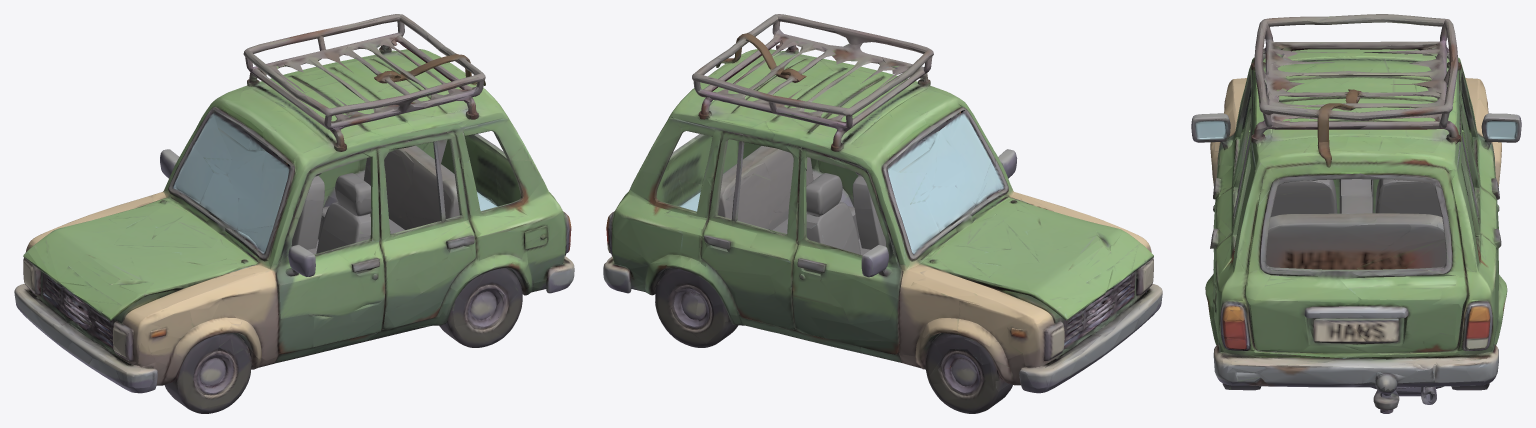
File: peugeot-optimized.glb
The picture shows the model from 3 angles, left to right: view 1: azimuth 30°, elevation 25°; view 2: azimuth 150°, elevation 25°; view 3: azimuth 270°, elevation 25°; orthographic projection. The views are drawn at different scales.
Parts seen in each view (by area): view 1: output_unwrapped; view 2: output_unwrapped; view 3: output_unwrapped.
Part boxes in pixels (x1=…): output_unwrapped: x1=14, y1=14, x2=574, y2=413; output_unwrapped: x1=603, y1=14, x2=1162, y2=413; output_unwrapped: x1=1191, y1=14, x2=1521, y2=413.
Bounding box in the file's own units: 2 × 1.07 × 1.09.
Materials: 1 (1 with a texture image).
